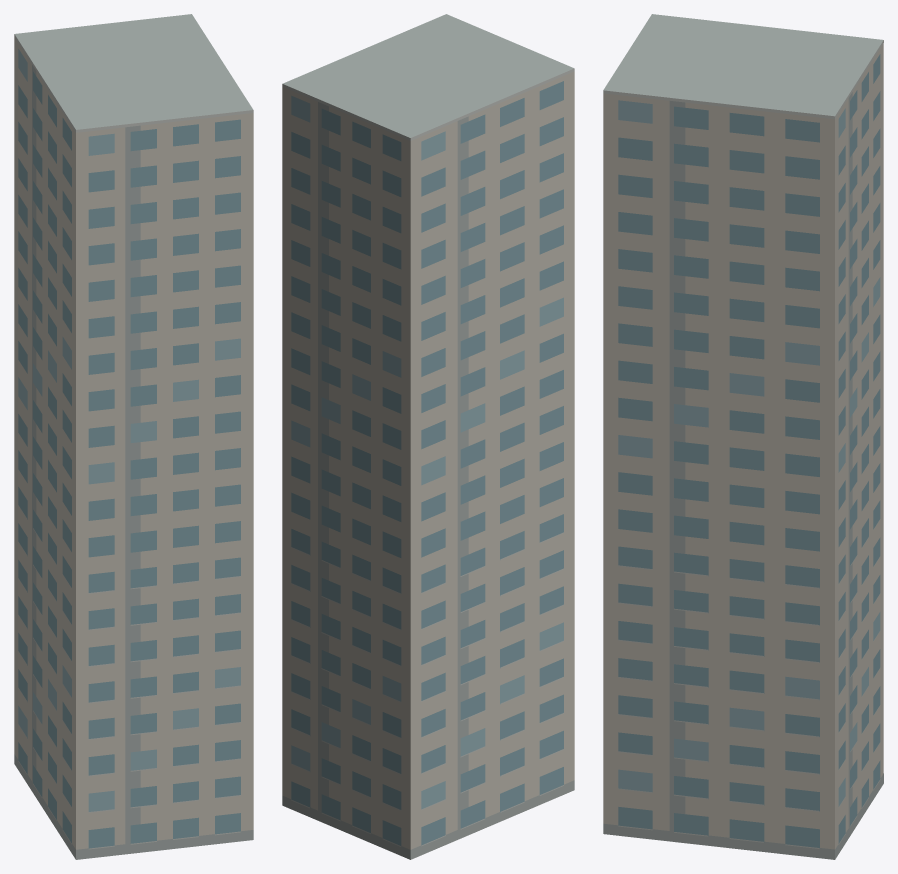
File: survey-upis-32869998.glb
3 views of the same model, side by side, from view 1: azimuth 30°, elevation 25°; view 2: azimuth 150°, elevation 25°; view 3: azimuth 270°, elevation 25° (orthographic). The views are drawn at different scales.
Parts seen in each view (by area): view 1: survey-upis-32869998.tmp; view 2: survey-upis-32869998.tmp; view 3: survey-upis-32869998.tmp.
Part boxes in pixels (left/top/right/bottom): survey-upis-32869998.tmp: left=14, top=14, right=253, bottom=859; survey-upis-32869998.tmp: left=282, top=14, right=574, bottom=859; survey-upis-32869998.tmp: left=603, top=14, right=883, bottom=859.
Size of the model in its own units: 18 by 61 by 20.87.
